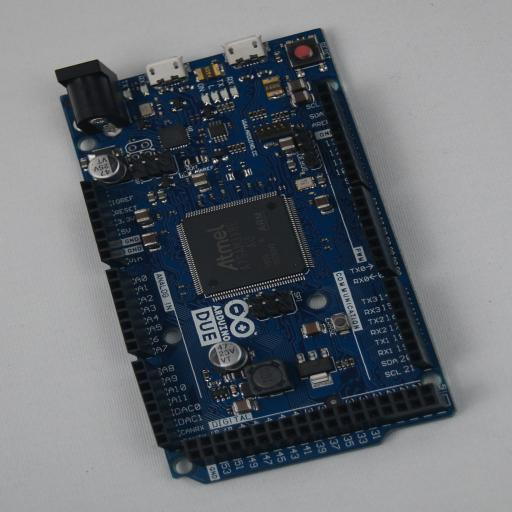Arduino Due: (55, 28, 457, 484)
